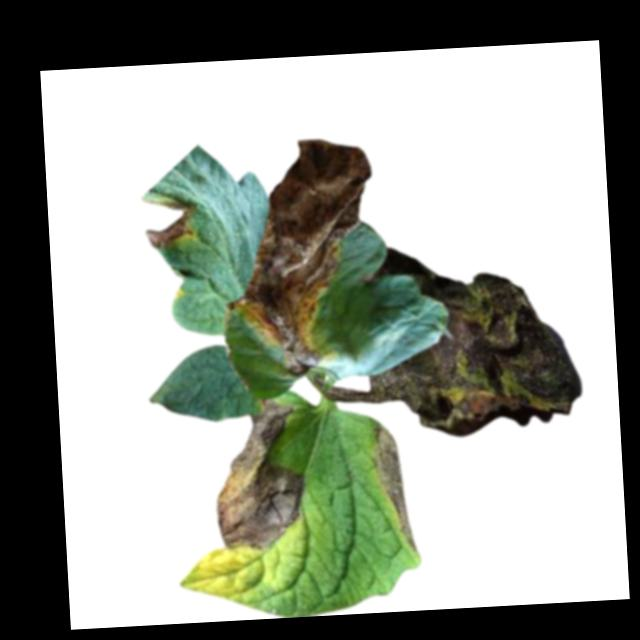Early_blight: (364, 237, 585, 445), (217, 135, 381, 380), (209, 398, 306, 551), (373, 420, 418, 555), (141, 193, 198, 249)
